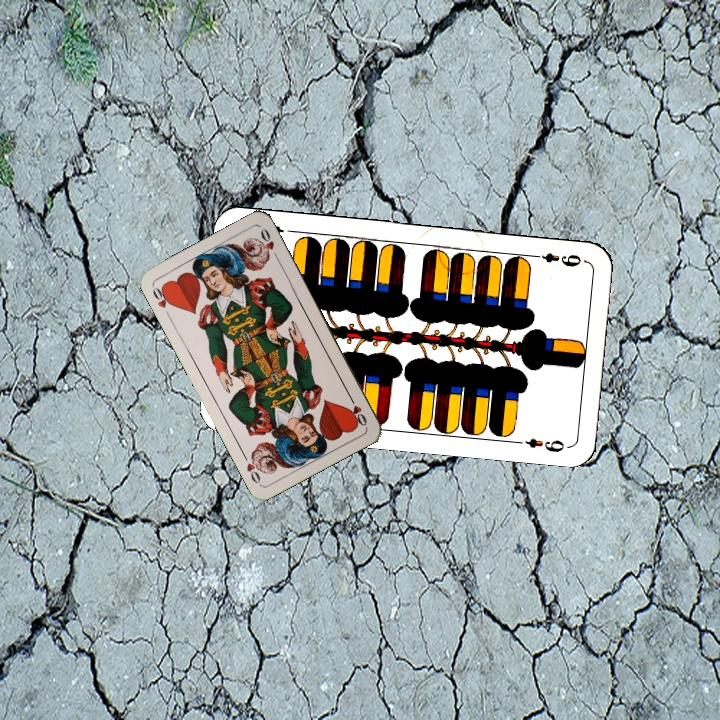E9: (527, 248, 584, 269)
HO: (148, 282, 176, 320), (345, 391, 369, 429)
